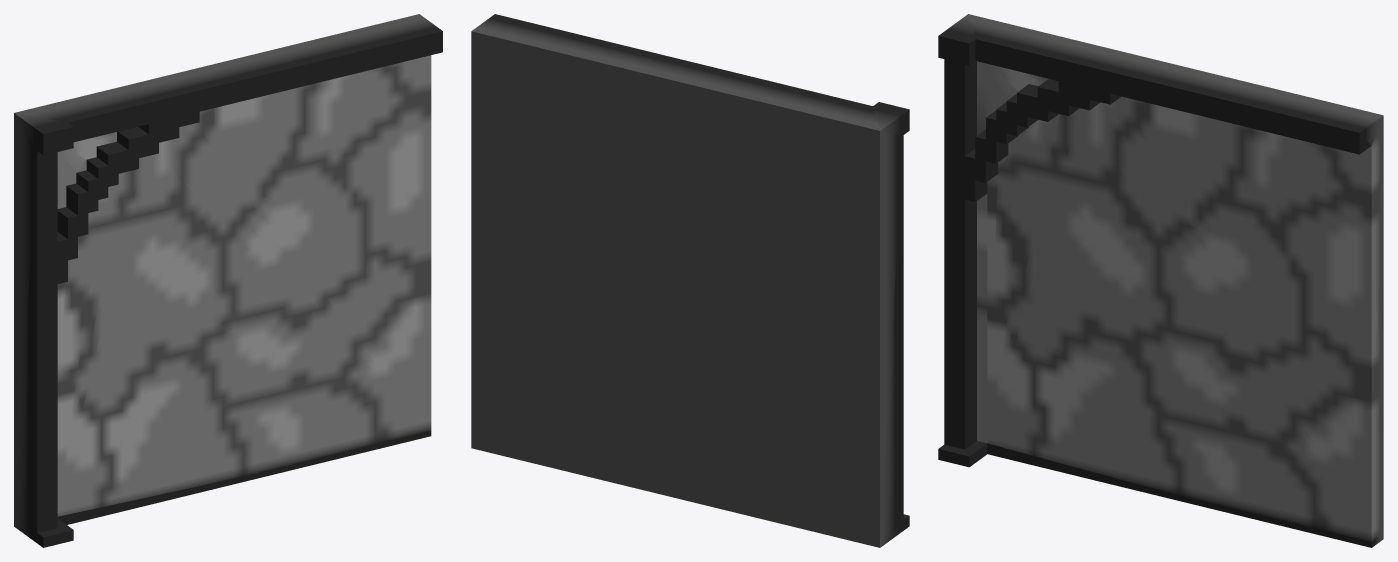
File: WallDefault_ER.fbx
The picture shows the model from 3 angles, left to right: view 1: azimuth 30°, elevation 25°; view 2: azimuth 150°, elevation 25°; view 3: azimuth 330°, elevation 25°; orthographic projection. The views are drawn at different scales.
Visible parts, largest first — view 1: WallDefault_ER.Merged; view 2: WallDefault_ER.Merged; view 3: WallDefault_ER.Merged.
Boxes of the visible parts, <box> form: WallDefault_ER.Merged: <box>14,14,442,547</box>; WallDefault_ER.Merged: <box>471,14,909,547</box>; WallDefault_ER.Merged: <box>938,14,1383,547</box>.
Size of the model in its own units: 8000 by 7800 by 1000.
